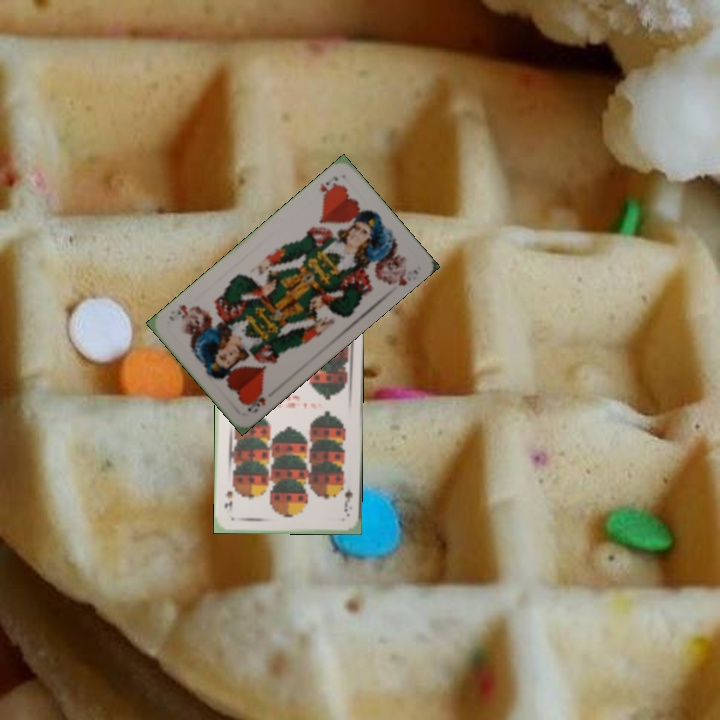HO: (316, 171, 341, 202), (243, 386, 268, 416)
S9: (340, 485, 355, 514)
